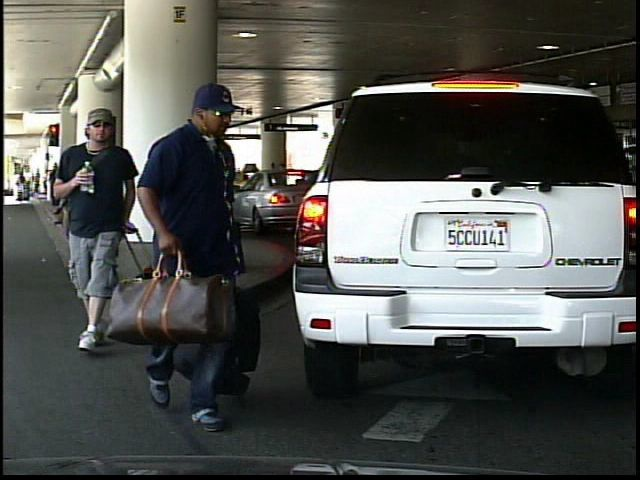person: (143, 76, 262, 431), (63, 101, 150, 352), (162, 131, 224, 269)
